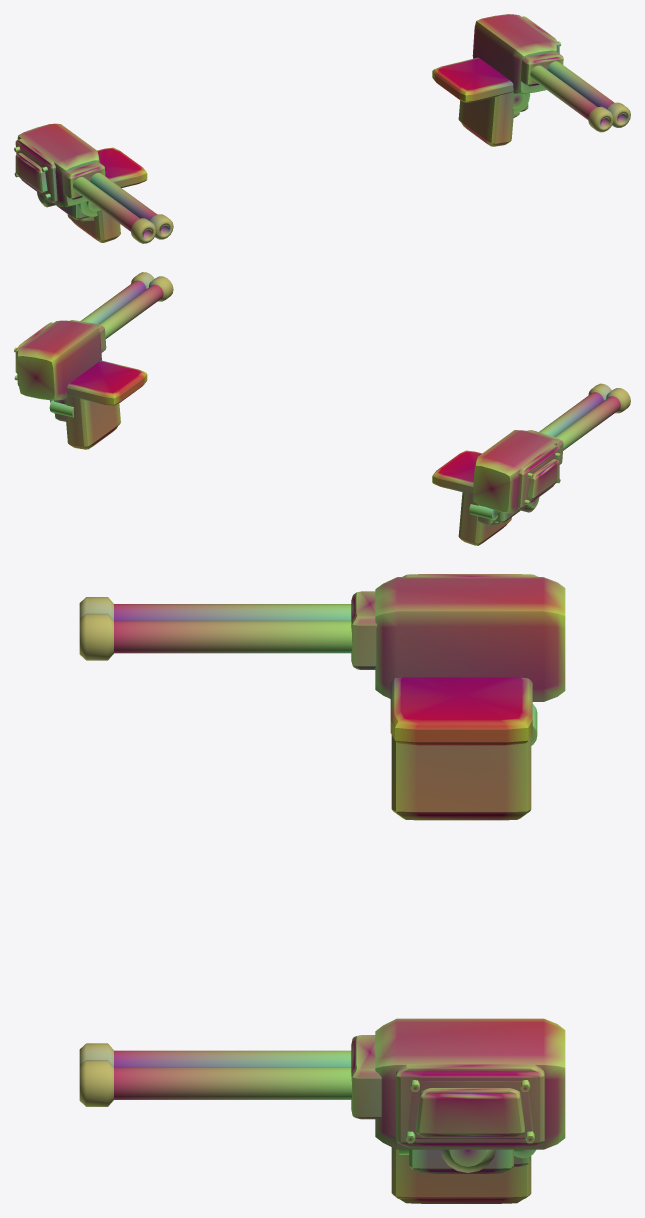
Rendered from llm_gen_shoulder_pods_090_fc19e5.glb.
The picture shows the model from 3 angles, top to bottom: view 1: azimuth 30°, elevation 25°; view 2: azimuth 150°, elevation 25°; view 3: azimuth 270°, elevation 25°; orthographic projection. The views are drawn at different scales.
Parts seen in each view (by area): view 1: adapter_shoulder_yoke_r, cannon_cradle_1_gold_r, cannon_cradle_1_gold_l, adapter_shoulder_yoke_l, beam_barrel_in_3_barrel_metal_r, beam_barrel_out_4_barrel_metal_l, cannon_side_shroud_blue_8_adapter_dark_l, beam_barrel_in_3_barrel_metal_l, beam_barrel_out_4_barrel_metal_r, adapter_sub_heatsink_bezel_dark_7_adapter_dark_l, adapter_sub_mantlet_dark_2_adapter_dark_l, adapter_sub_mantlet_dark_2_adapter_dark_r (+4 smaller); view 2: cannon_cradle_1_gold_r, adapter_shoulder_yoke_r, cannon_cradle_1_gold_l, adapter_shoulder_yoke_l, beam_barrel_out_4_barrel_metal_l, beam_barrel_in_3_barrel_metal_r, cannon_side_shroud_blue_8_adapter_dark_l, beam_barrel_in_3_barrel_metal_l, beam_barrel_out_4_barrel_metal_r, adapter_sub_heatsink_bezel_dark_7_adapter_dark_l; view 3: adapter_shoulder_yoke_l, cannon_cradle_1_gold_l, cannon_cradle_1_gold_r, beam_barrel_in_3_barrel_metal_l, beam_barrel_out_4_barrel_metal_r, cannon_side_shroud_blue_8_adapter_dark_r, adapter_shoulder_yoke_r, adapter_sub_heatsink_bezel_dark_7_adapter_dark_r, beam_barrel_out_4_barrel_metal_l, beam_barrel_in_3_barrel_metal_r, adapter_sub_mantlet_dark_2_adapter_dark_r, adapter_sub_mantlet_dark_2_adapter_dark_l (+3 smaller).
Boxes of the visible parts, x1,y1,x2,y2 form: adapter_shoulder_yoke_r: (432, 57, 530, 146); cannon_cradle_1_gold_r: (472, 14, 557, 93); cannon_cradle_1_gold_l: (17, 123, 100, 206); adapter_shoulder_yoke_l: (56, 147, 147, 242); beam_barrel_in_3_barrel_metal_r: (530, 65, 597, 119); beam_barrel_out_4_barrel_metal_l: (73, 177, 140, 231); cannon_side_shroud_blue_8_adapter_dark_l: (14, 146, 50, 198); beam_barrel_in_3_barrel_metal_l: (90, 173, 157, 220); beam_barrel_out_4_barrel_metal_r: (547, 61, 614, 108); adapter_sub_heatsink_bezel_dark_7_adapter_dark_l: (15, 138, 57, 202); adapter_sub_mantlet_dark_2_adapter_dark_l: (62, 161, 105, 199); adapter_sub_mantlet_dark_2_adapter_dark_r: (520, 52, 563, 86); cannon_cradle_1_gold_r: (17, 320, 101, 400); adapter_shoulder_yoke_r: (50, 360, 147, 449); cannon_cradle_1_gold_l: (472, 430, 556, 513); adapter_shoulder_yoke_l: (432, 450, 520, 545); beam_barrel_out_4_barrel_metal_l: (555, 396, 620, 450); beam_barrel_in_3_barrel_metal_r: (99, 284, 163, 338); cannon_side_shroud_blue_8_adapter_dark_l: (524, 452, 560, 505); beam_barrel_in_3_barrel_metal_l: (539, 392, 603, 436); beam_barrel_out_4_barrel_metal_r: (80, 280, 146, 324); adapter_sub_heatsink_bezel_dark_7_adapter_dark_l: (517, 444, 559, 508); adapter_shoulder_yoke_l: (390, 677, 532, 820); cannon_cradle_1_gold_l: (375, 577, 565, 701); cannon_cradle_1_gold_r: (375, 1018, 565, 1149); beam_barrel_in_3_barrel_metal_l: (114, 620, 352, 653); beam_barrel_out_4_barrel_metal_r: (114, 1067, 351, 1099); cannon_side_shroud_blue_8_adapter_dark_r: (405, 1080, 534, 1143); adapter_shoulder_yoke_r: (391, 1147, 531, 1203); adapter_sub_heatsink_bezel_dark_7_adapter_dark_r: (396, 1064, 544, 1147); beam_barrel_out_4_barrel_metal_l: (114, 604, 351, 620); beam_barrel_in_3_barrel_metal_r: (114, 1050, 351, 1066); adapter_sub_mantlet_dark_2_adapter_dark_r: (351, 1035, 381, 1119); adapter_sub_mantlet_dark_2_adapter_dark_l: (351, 591, 377, 669).
Bounding box in the file's own units: 110 × 19.53 × 44.5.
